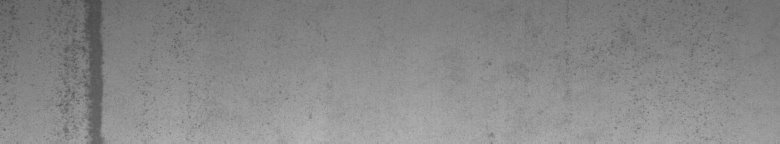hd: (4, 4, 205, 136)
